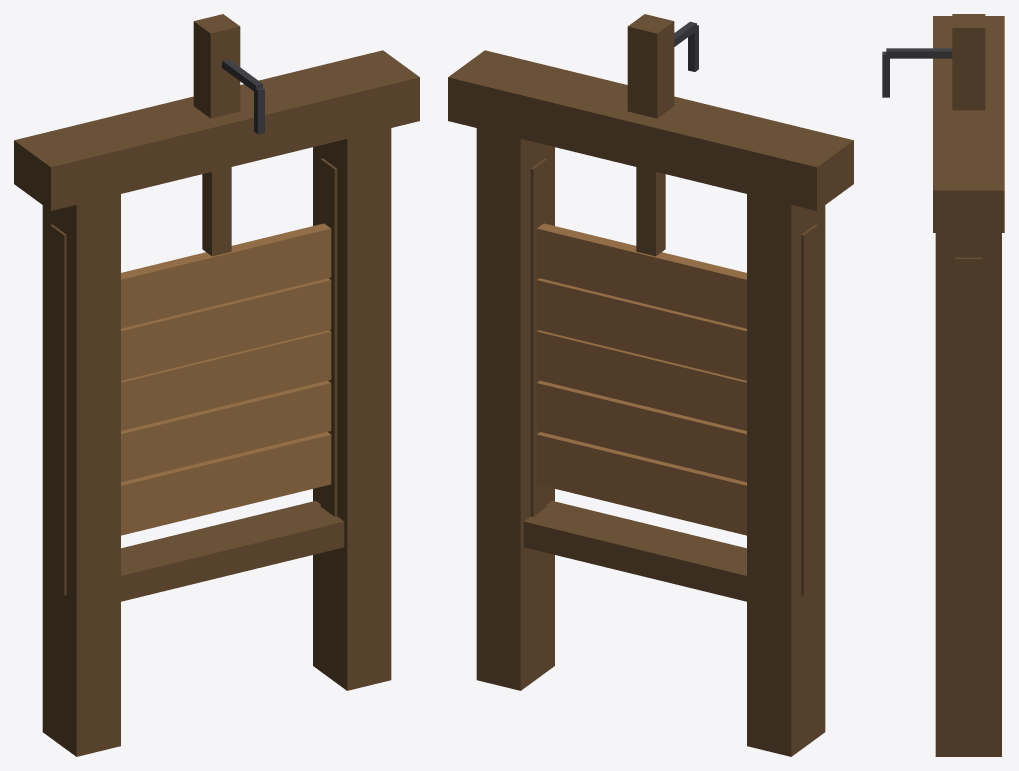
Rendered from Sluice.fbx.
3 renders of one model, left to right at view 1: azimuth 30°, elevation 25°; view 2: azimuth 150°, elevation 25°; view 3: azimuth 270°, elevation 25°, orthographic. The views are drawn at different scales.
Visible parts, largest first — view 1: Sluice; view 2: Sluice; view 3: Sluice.
Part boxes in pixels (<box>): Sluice: <box>14,14,419,756</box>; Sluice: <box>448,14,853,756</box>; Sluice: <box>882,14,1004,756</box>.
Bounding box in the file's own units: 1.5 × 2.65 × 0.4441.
